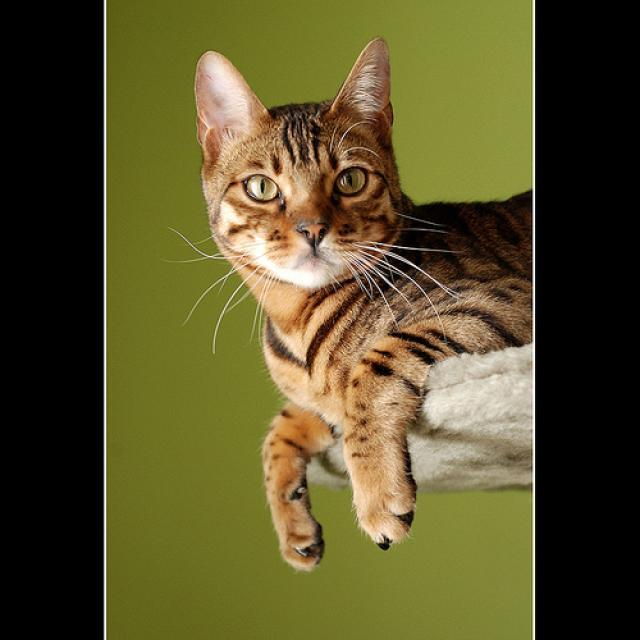Bengal: (179, 30, 419, 290)
